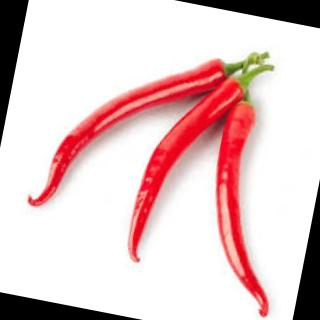Cabai Merah: (31, 29, 232, 247), (190, 94, 311, 318)
